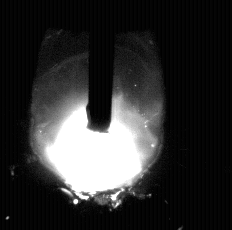arame: (88, 0, 112, 132)
poca: (28, 0, 164, 230)
